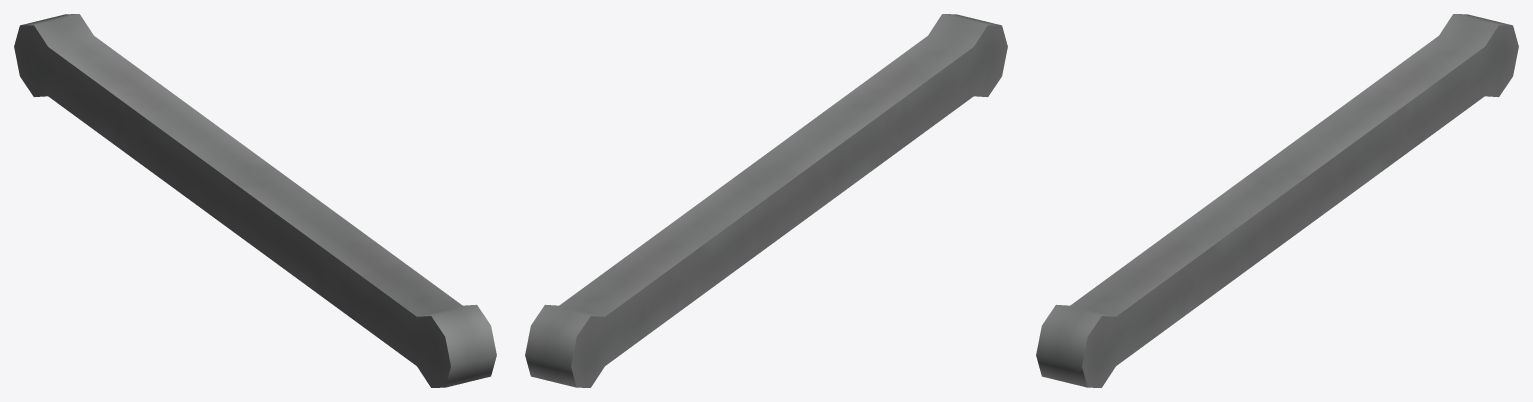
The model's file is atria_antenna_2_arm_2.obj.
3 renders of one model, left to right at view 1: azimuth 30°, elevation 25°; view 2: azimuth 150°, elevation 25°; view 3: azimuth 330°, elevation 25°, orthographic.
Visible parts, largest first — view 1: atria_antenna_2_arm_2; view 2: atria_antenna_2_arm_2; view 3: atria_antenna_2_arm_2.
Boxes of the visible parts, x1,y1,x2,y2 form: atria_antenna_2_arm_2: [14, 14, 496, 387]; atria_antenna_2_arm_2: [525, 14, 1007, 387]; atria_antenna_2_arm_2: [1036, 14, 1518, 387].
Size of the model in its own units: 0.025 by 0.0375 by 0.4125.
1 material, 1 textured.
